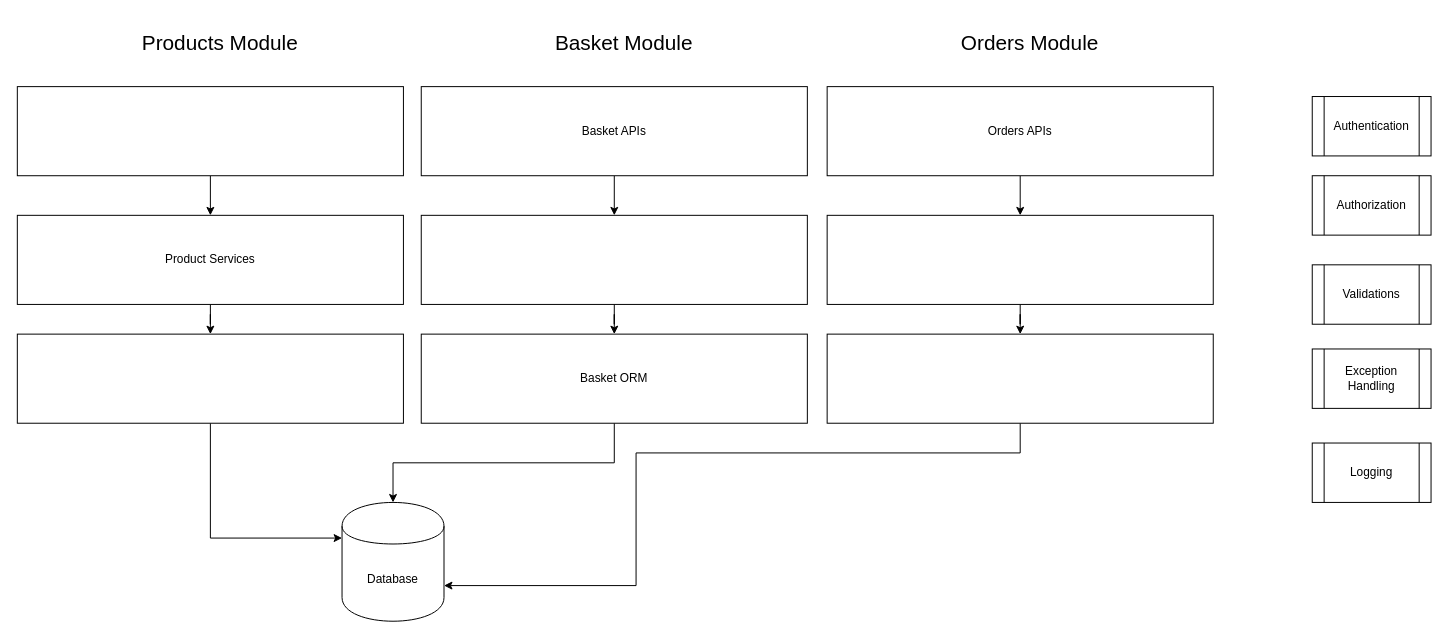
Some shapes in this 1448 by 639 pixel diagram are drawn without their labels. Here are the shapes that lost their labels. From the top down, the centre of each, then its label:
[209,131]: Product APIs
[613,259]: Basket Services
[1019,259]: Orders Services
[209,378]: Product ORM
[1019,378]: Orders ORM
